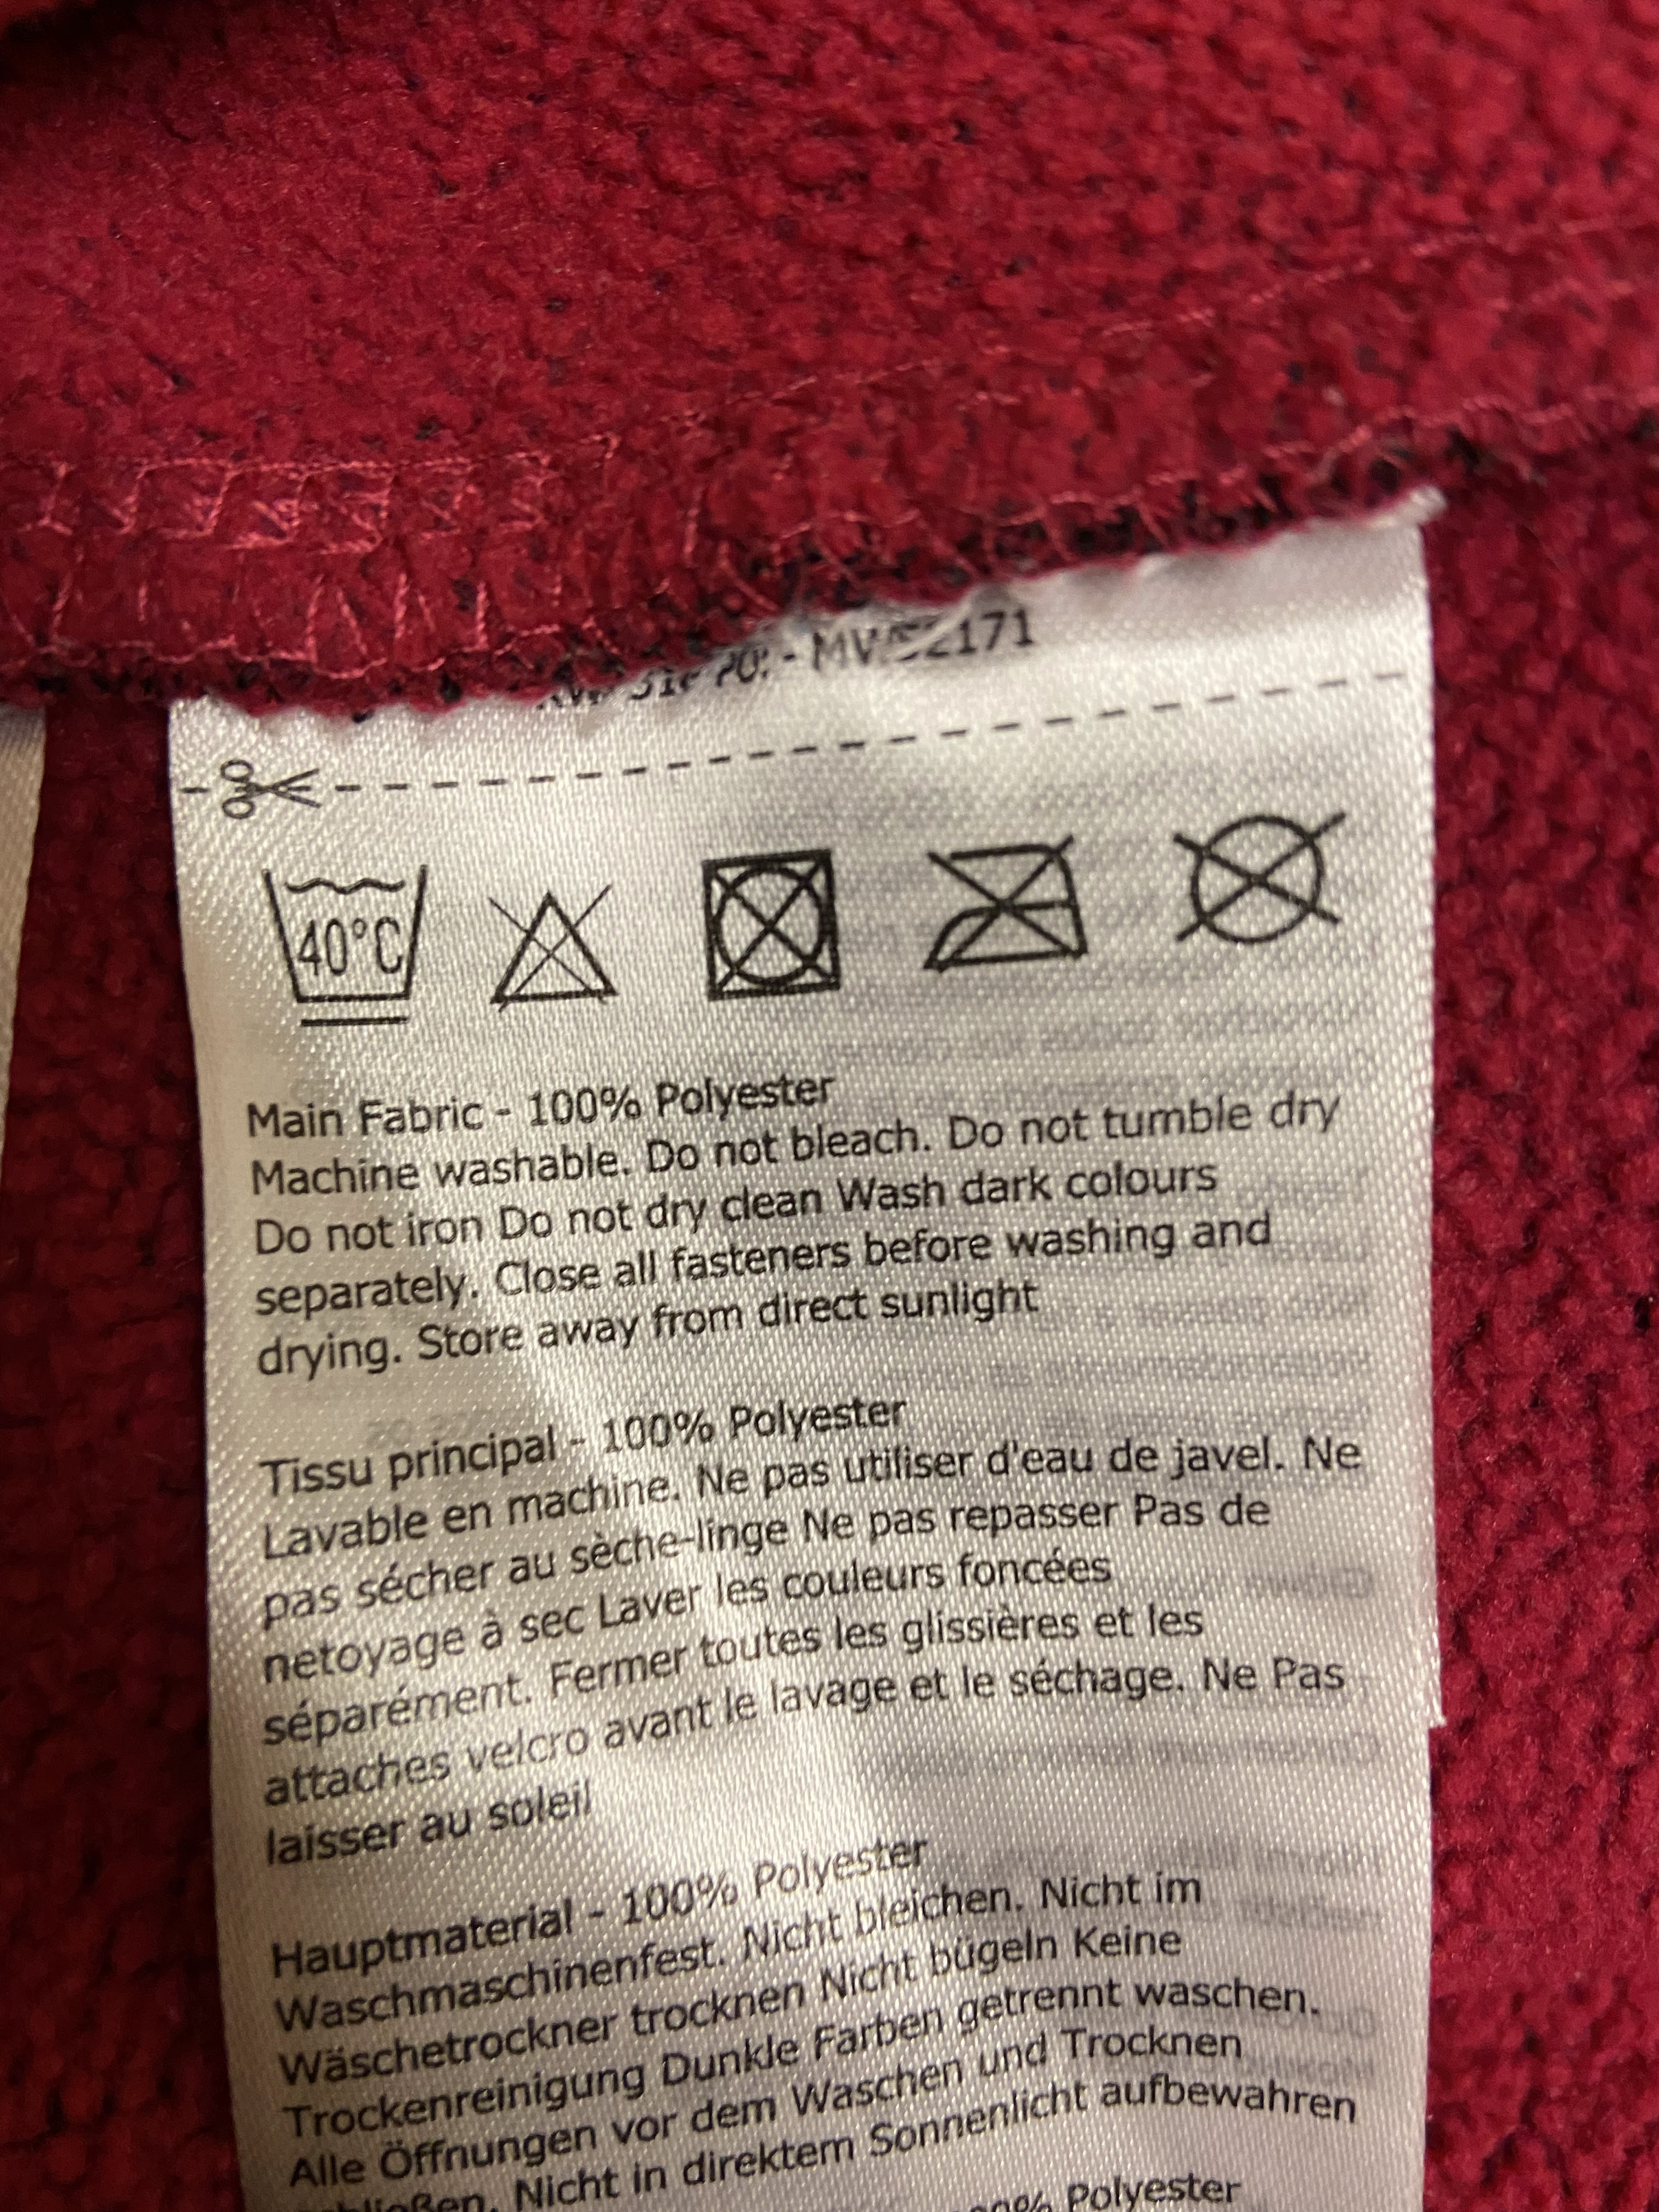do not bleach: (471, 869, 669, 1036)
do not dry clean: (1155, 794, 1398, 979)
do not iron: (889, 817, 1133, 1010)
do not tumble dry: (667, 819, 880, 1026)
wash at or below 40: (237, 848, 441, 1038)
